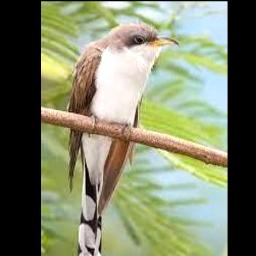Cuckoo: (67, 23, 179, 256)
